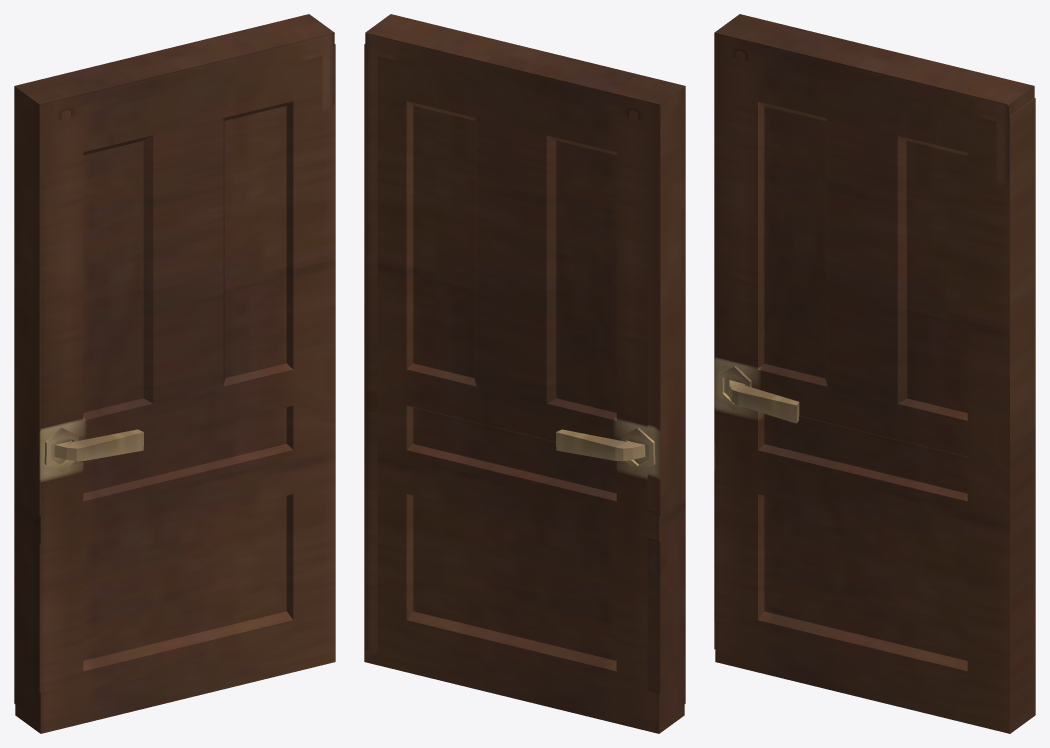
File: Puerta_Principal.obj
3 views of the same model, side by side, from view 1: azimuth 30°, elevation 25°; view 2: azimuth 150°, elevation 25°; view 3: azimuth 330°, elevation 25° (orthographic).
Visible parts, largest first — view 1: Puerta_principal; view 2: Puerta_principal; view 3: Puerta_principal.
Boxes of the visible parts, <box> form: Puerta_principal: <box>14,14,335,733</box>; Puerta_principal: <box>364,14,685,733</box>; Puerta_principal: <box>714,14,1035,733</box>.
Bounding box in the file's own units: 0.6272 × 1.27 × 0.1732.
